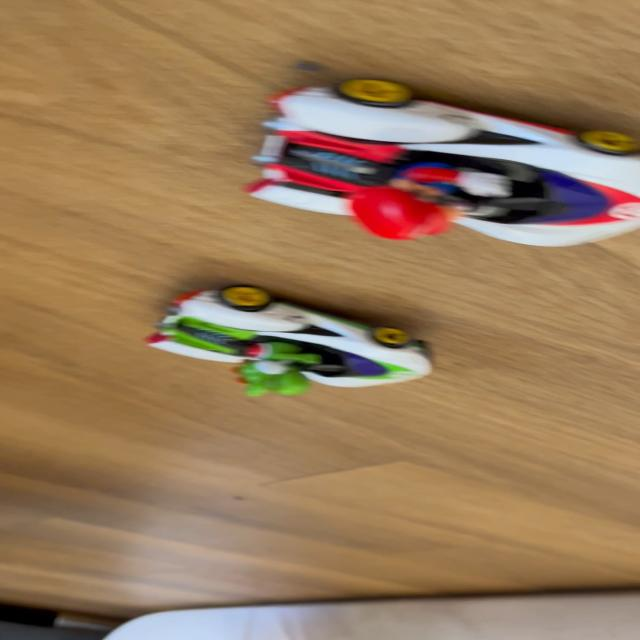mario: (217, 75, 638, 258)
yoshi: (127, 283, 448, 414)
